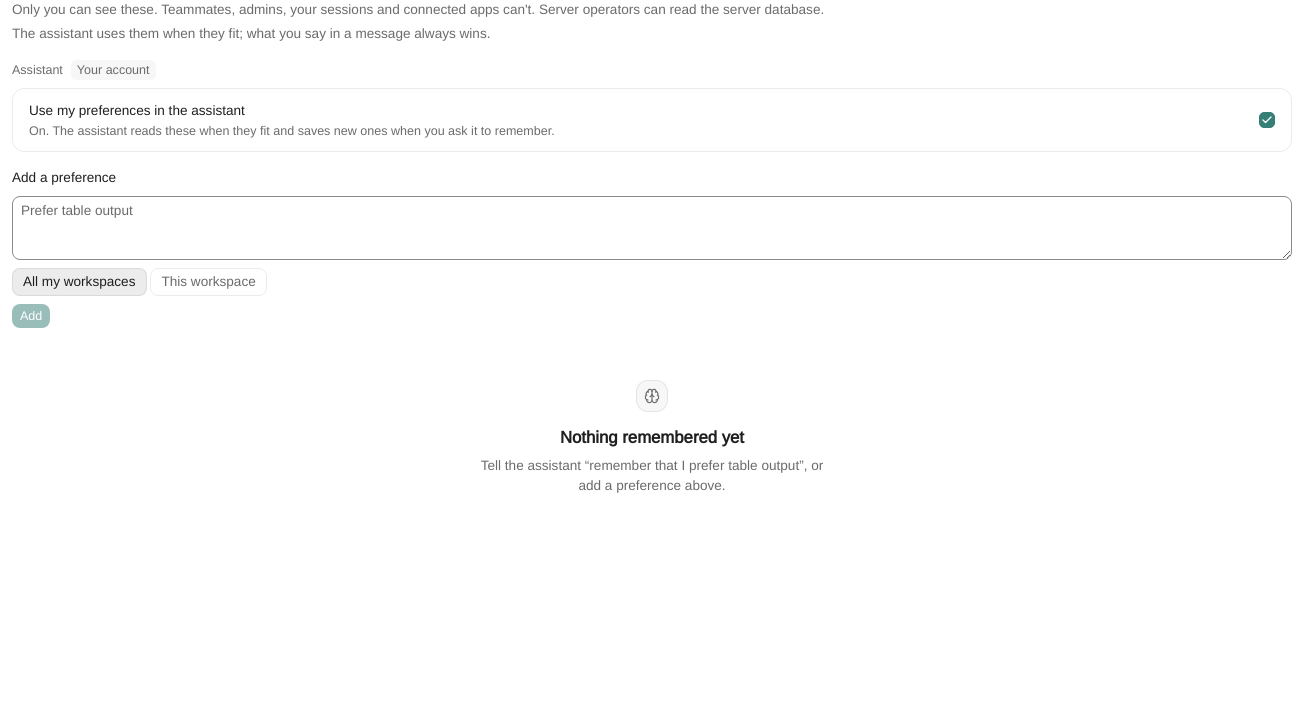
Test case: memory in settings › adds a preference for all workspaces or this one, and keeps the draft with the server error
The width and height of the screenshot is (1304, 720).
Check: the 2nd heading named "Nothing remembered yet" is shown, box [560,426,744,450]
Type "Reply in English" into the text box named "Add a preference" at (652, 228), box [12,196,1292,260]
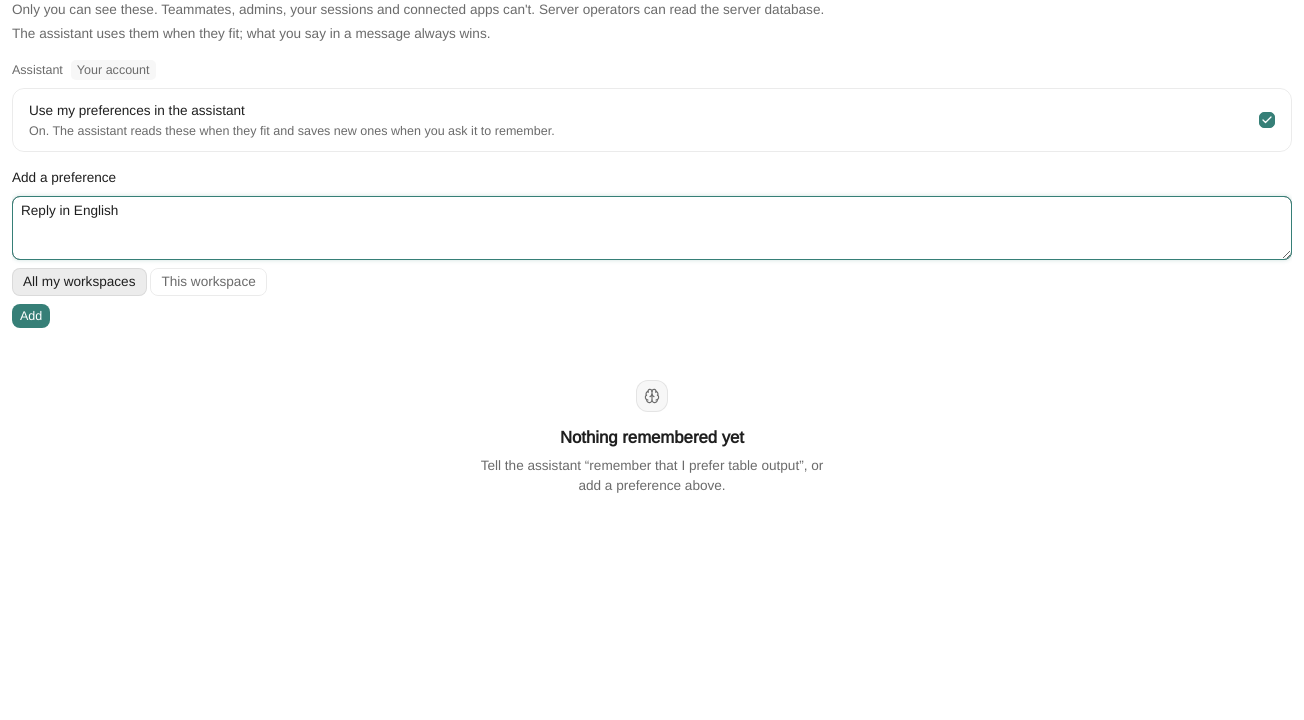
Click the button named "Add" at (31, 316), box [12,304,50,328]
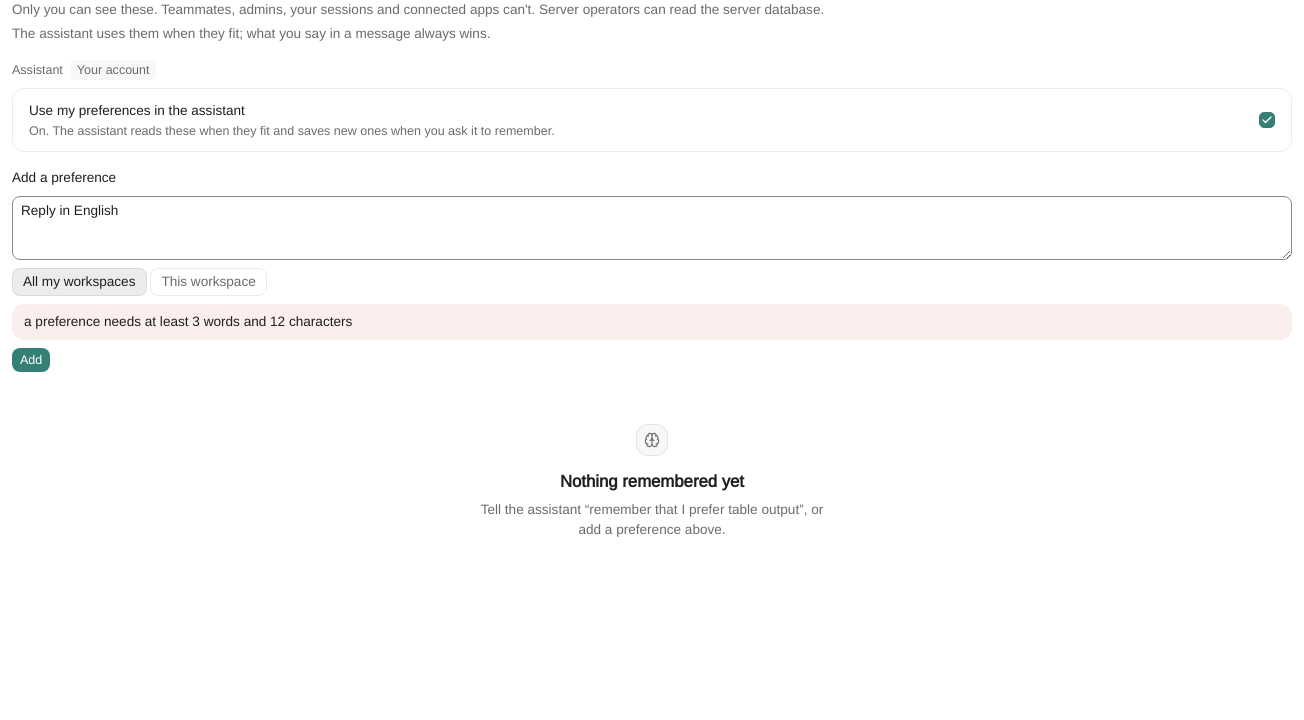
Click the 2nd radio button named "This workspace" at (209, 282), box [150,268,267,296]
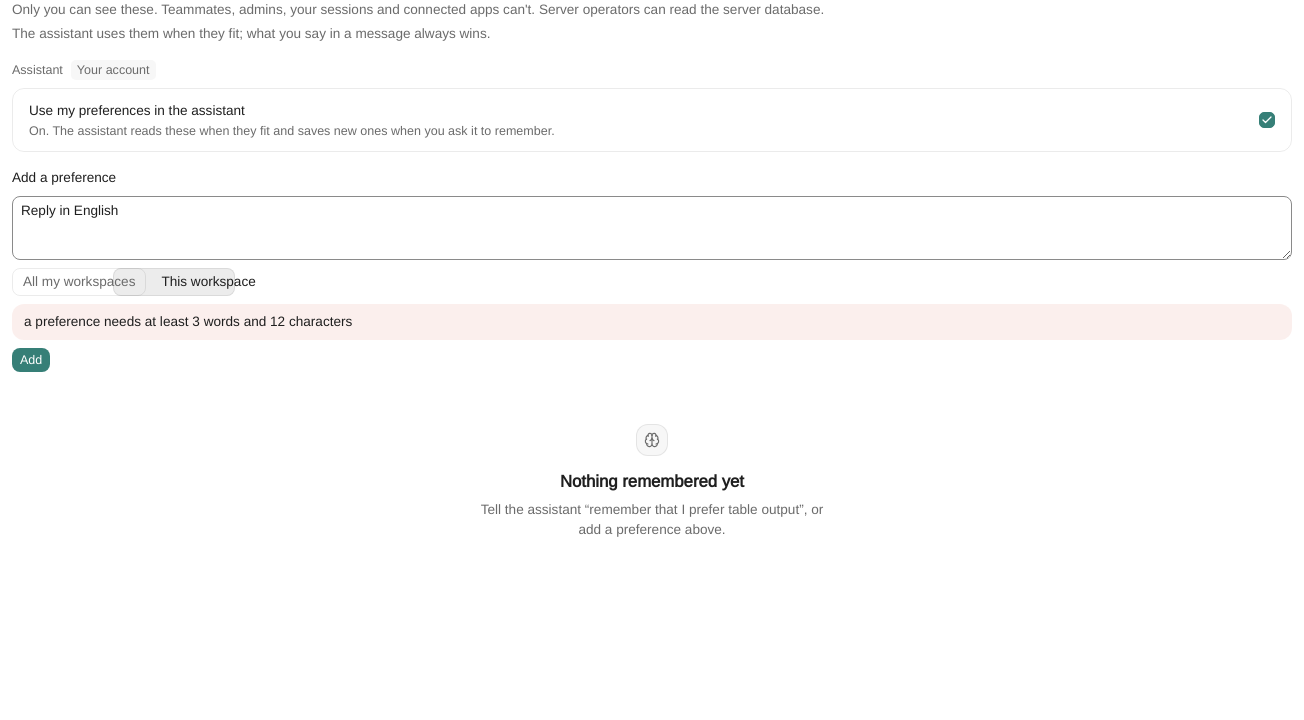
Click the button named "Add" at (31, 360), box [12,348,50,372]
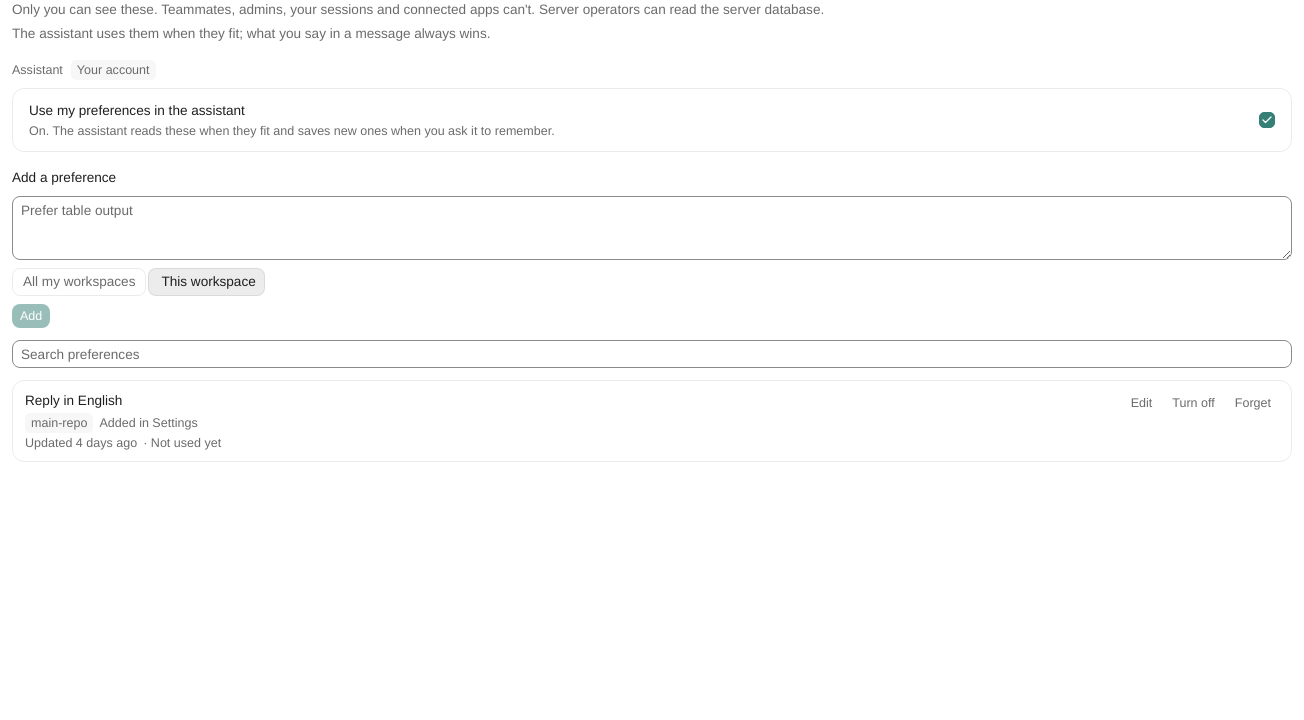
Check: the 7th text "Added in Settings" is shown, box [99,415,198,431]
Check: the text box with placeholder "Prefer table output" is empty, box [12,196,1292,260]
